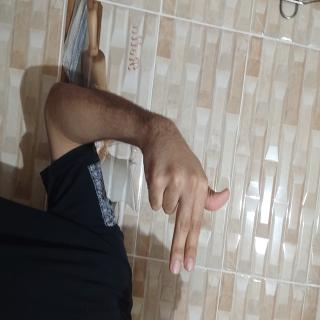GHAYN: (86, 112, 210, 242)
